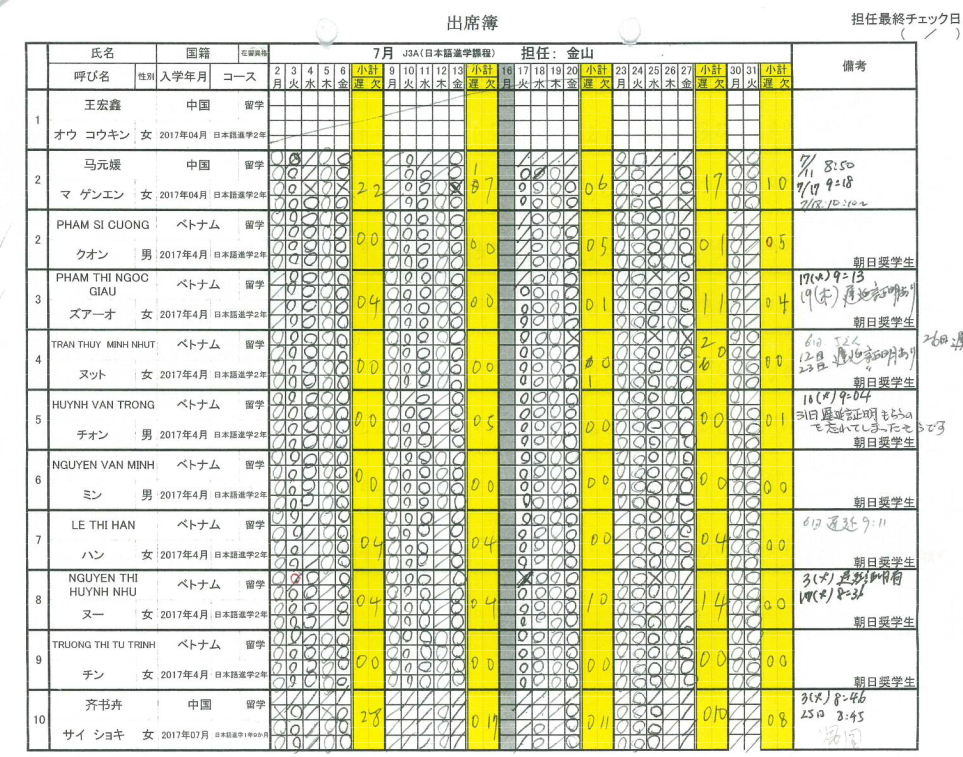/: (679, 704, 696, 720), (514, 210, 530, 226), (728, 210, 744, 226), (744, 209, 760, 225), (385, 719, 401, 735), (744, 719, 760, 735), (728, 735, 744, 751), (301, 166, 318, 181), (401, 690, 418, 705), (450, 735, 467, 750), (515, 690, 532, 705), (531, 704, 548, 719), (728, 720, 745, 735), (661, 150, 677, 165), (743, 240, 759, 255), (515, 270, 531, 285), (614, 525, 630, 540), (433, 510, 449, 525), (433, 525, 449, 540), (302, 525, 318, 540), (401, 720, 417, 735), (417, 719, 433, 734), (564, 690, 580, 705), (548, 720, 564, 735), (663, 704, 678, 720), (663, 720, 679, 735), (728, 689, 744, 704), (744, 704, 760, 719), (744, 735, 760, 750), (286, 690, 303, 704), (516, 735, 533, 749), (662, 690, 679, 704), (302, 150, 317, 165), (384, 165, 399, 180), (433, 165, 448, 180), (646, 149, 661, 164), (678, 150, 693, 165), (646, 165, 661, 180), (662, 165, 677, 180), (678, 210, 693, 225), (744, 225, 759, 240), (744, 255, 759, 270), (270, 300, 285, 315), (270, 314, 285, 329), (662, 270, 677, 285), (744, 300, 759, 315), (744, 314, 759, 329), (744, 390, 759, 405), (434, 420, 449, 435), (302, 510, 317, 525), (434, 570, 449, 585), (434, 599, 449, 614), (679, 570, 694, 585), (304, 720, 319, 735), (451, 720, 466, 735), (745, 690, 760, 705), (432, 151, 448, 165), (547, 151, 563, 165), (662, 181, 678, 195), (662, 196, 678, 210), (515, 226, 531, 240), (269, 271, 285, 285), (433, 391, 449, 405), (433, 405, 449, 419), (433, 435, 449, 449), (614, 510, 630, 524), (613, 541, 629, 555), (302, 540, 318, 554), (302, 554, 318, 568), (679, 600, 695, 614), (303, 705, 319, 719), (385, 690, 401, 704), (418, 690, 434, 704), (401, 705, 417, 719), (385, 735, 401, 749), (401, 735, 417, 749), (417, 736, 433, 750), (515, 705, 531, 719), (515, 720, 531, 734), (548, 690, 564, 704), (646, 690, 662, 704), (662, 735, 678, 749), (728, 705, 744, 719), (384, 151, 399, 165), (384, 180, 399, 194), (515, 151, 530, 165), (531, 151, 546, 165), (563, 151, 578, 165), (516, 255, 530, 270), (744, 270, 759, 284), (744, 285, 759, 299), (401, 391, 416, 405), (614, 556, 629, 570), (434, 540, 449, 554), (320, 585, 334, 600), (679, 585, 694, 599), (679, 614, 694, 628), (270, 690, 285, 704), (303, 690, 318, 704), (434, 690, 449, 704), (386, 705, 401, 719), (549, 705, 564, 719), (549, 735, 564, 749), (680, 689, 694, 704), (680, 720, 694, 735), (679, 735, 694, 749), (434, 555, 450, 568), (319, 572, 335, 585), (417, 705, 433, 718), (319, 691, 336, 703), (564, 165, 578, 179), (320, 599, 334, 613), (451, 690, 465, 704), (451, 705, 465, 719), (385, 196, 400, 209), (515, 241, 530, 254), (563, 211, 578, 224), (320, 615, 335, 628), (434, 615, 449, 628), (304, 736, 319, 749), (533, 691, 548, 704), (614, 690, 629, 703), (417, 151, 431, 164), (270, 286, 284, 299), (435, 585, 449, 598), (336, 691, 349, 704)
x: (319, 704, 336, 720), (515, 570, 533, 585), (270, 705, 287, 720), (678, 330, 694, 345), (564, 330, 580, 344), (646, 330, 662, 344), (301, 181, 317, 195), (678, 195, 694, 209), (646, 270, 661, 284), (728, 151, 743, 165), (335, 180, 348, 194)
